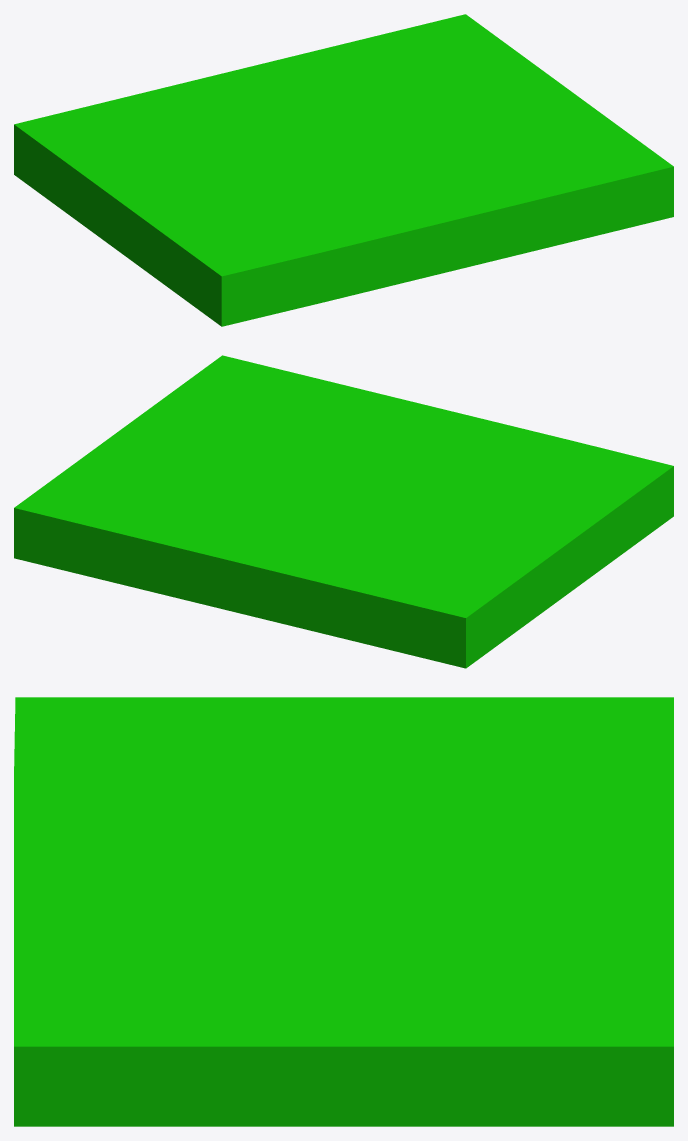
The picture shows the model from 3 angles, top to bottom: view 1: azimuth 30°, elevation 25°; view 2: azimuth 150°, elevation 25°; view 3: azimuth 270°, elevation 25°; orthographic projection. The views are drawn at different scales.
Size of the model in its own units: 2.64 by 0.2808 by 2.1.
